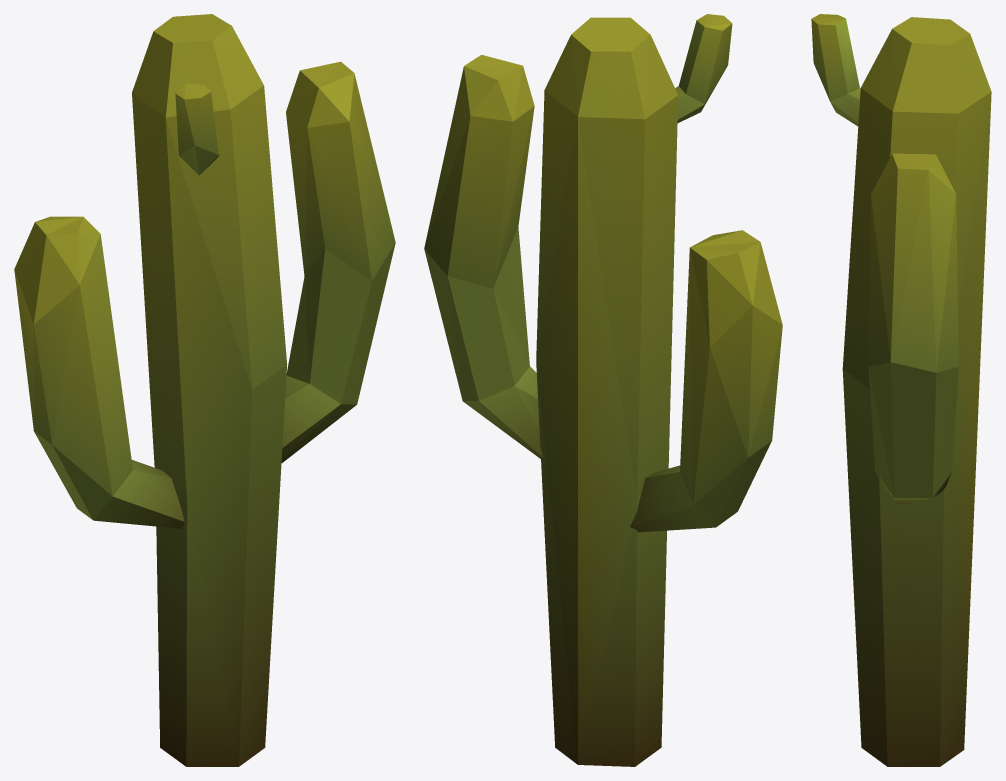
File: Mixed_Cactus_02.fbx
3 renders of one model, left to right at view 1: azimuth 30°, elevation 25°; view 2: azimuth 150°, elevation 25°; view 3: azimuth 270°, elevation 25°, orthographic.
Parts seen in each view (by area): view 1: Cactus_02.001; view 2: Cactus_02.001; view 3: Cactus_02.001.
Boxes of the visible parts, left/top/right/bottom form: Cactus_02.001: left=14, top=14, right=395, bottom=766; Cactus_02.001: left=424, top=14, right=782, bottom=766; Cactus_02.001: left=811, top=14, right=991, bottom=766.
Bounding box in the file's own units: 198 × 392 × 89.65.
